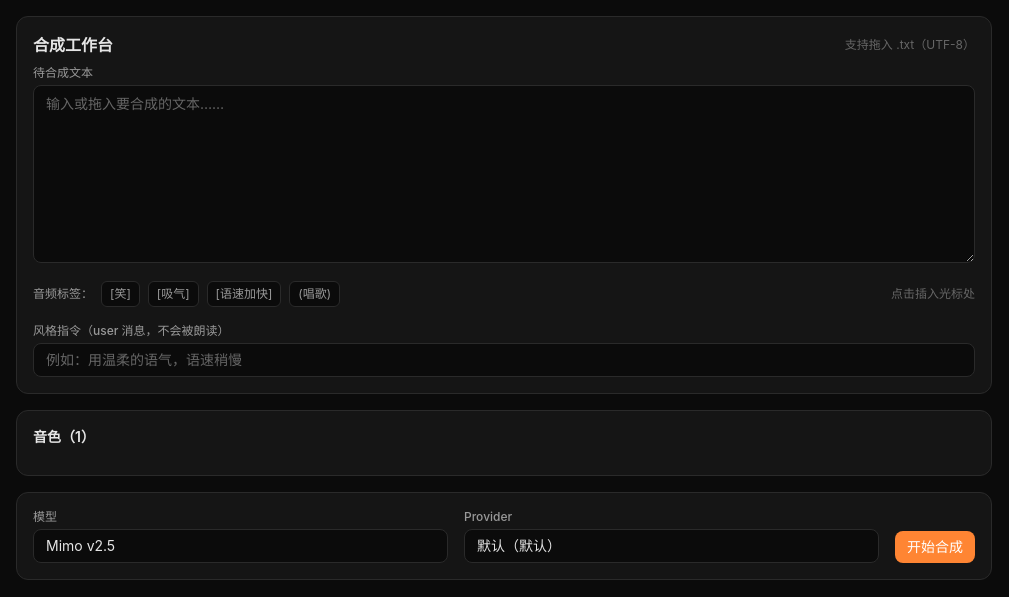
Test case: Workbench › 点击音频标签按钮插入文本
This screenshot has width=1009, height=597.
Click the button "[笑]".
click(120, 294)  # box [101, 281, 140, 307]
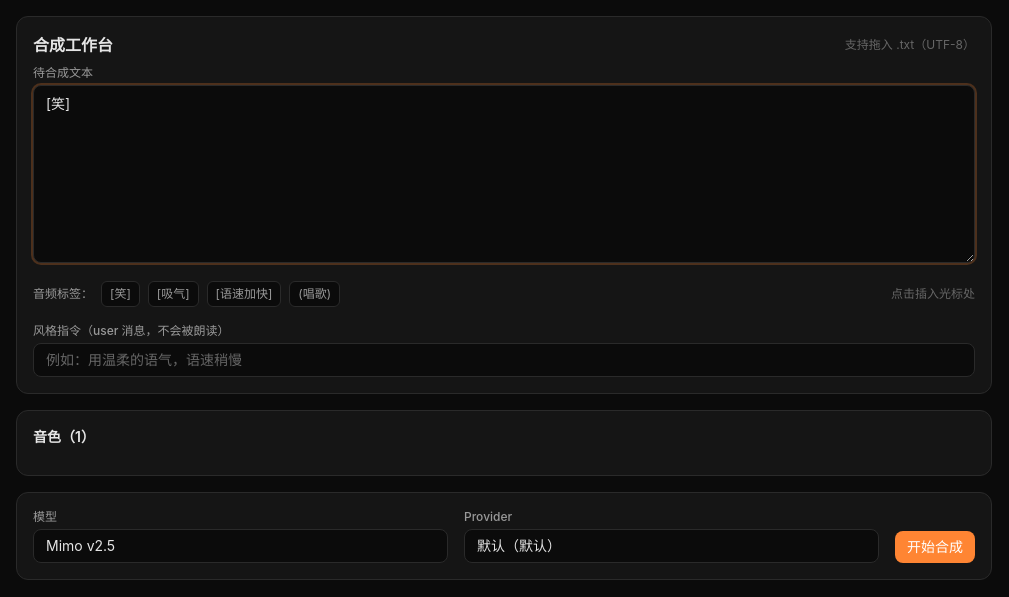
expect the text box with test id "workbench-content" holds "[笑]": met, box [33, 85, 975, 263]
